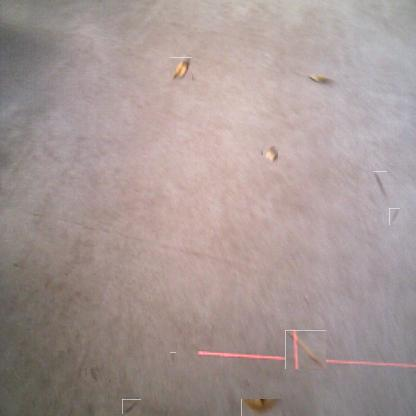dirty: (286, 329, 326, 370), (241, 398, 282, 416), (170, 58, 193, 82), (305, 71, 333, 85), (262, 147, 278, 163)
mark: (373, 171, 387, 196), (123, 398, 140, 415), (85, 367, 99, 382), (389, 208, 400, 225), (170, 352, 176, 365), (12, 262, 20, 270)
